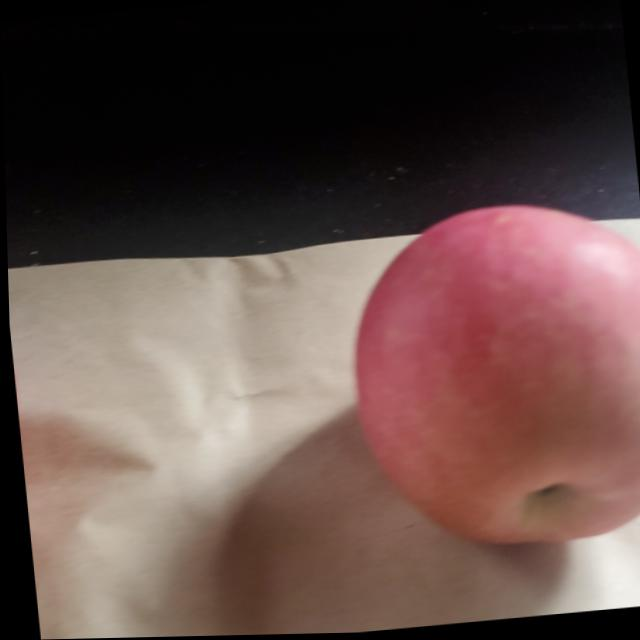apple: (337, 190, 640, 563)
